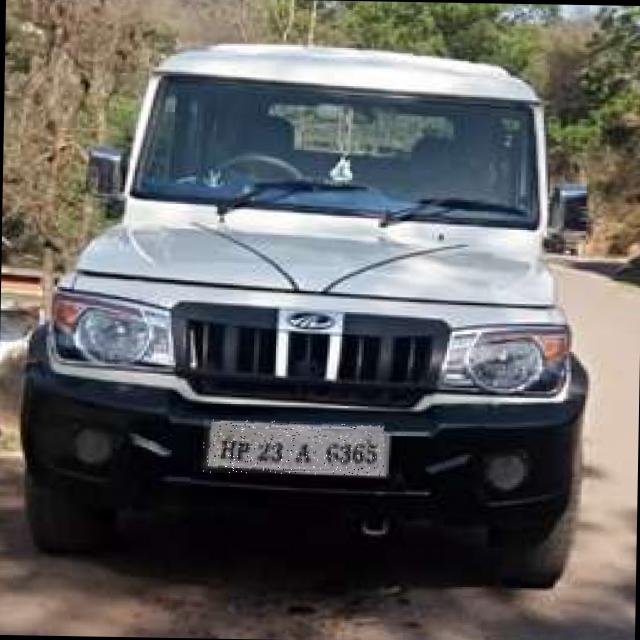Plate: (204, 420, 386, 476)
